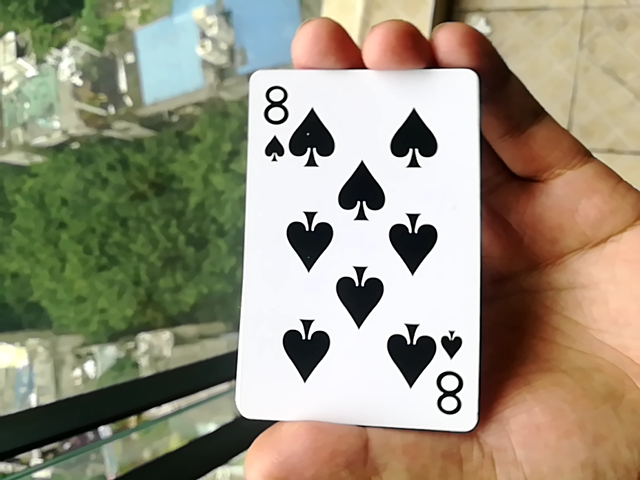ht 8: (233, 53, 465, 438)
